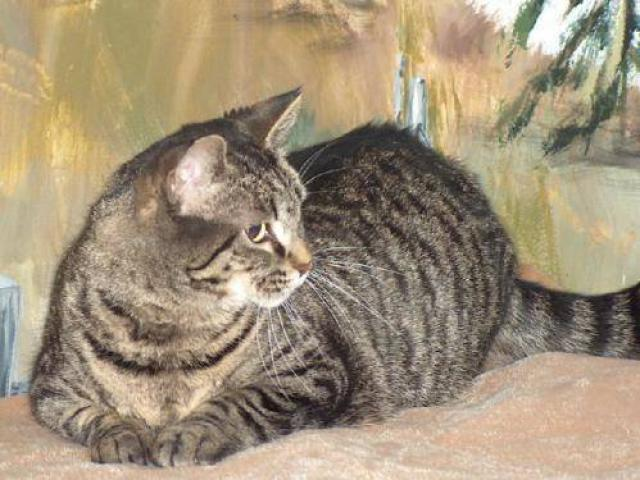cat: (33, 89, 632, 470)
